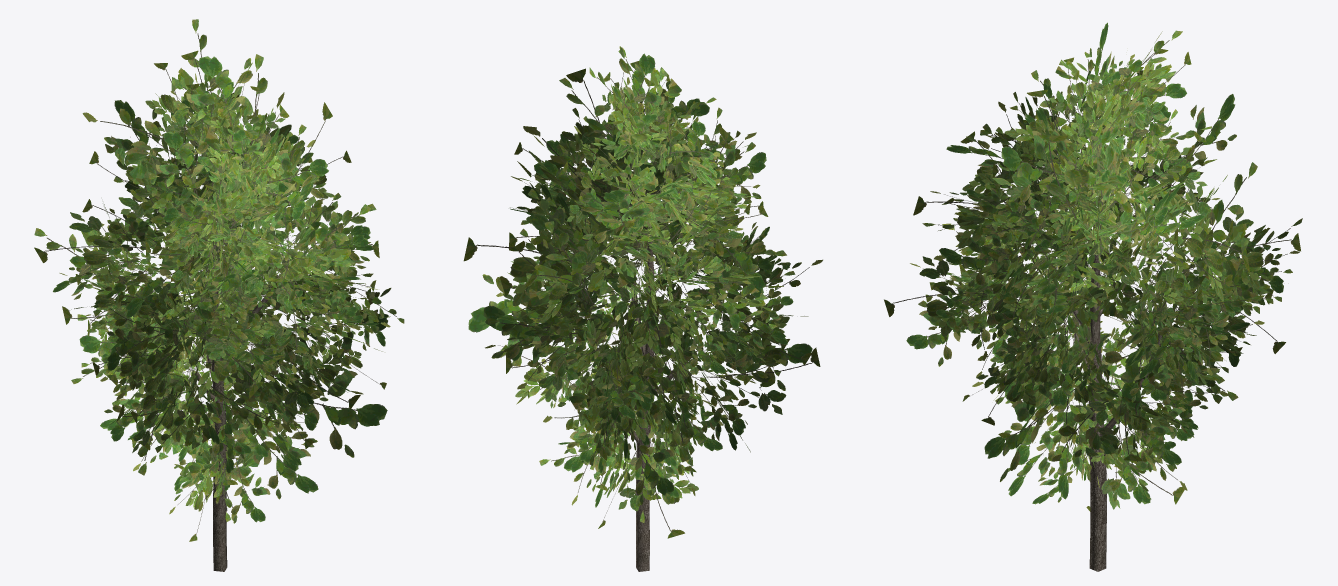
The model's file is tree_linden_v1_l1.glb.
3 renders of one model, left to right at view 1: azimuth 30°, elevation 25°; view 2: azimuth 150°, elevation 25°; view 3: azimuth 270°, elevation 25°, orthographic. The views are drawn at different scales.
Parts seen in each view (by area): view 1: tree_linden_v1_l1; view 2: tree_linden_v1_l1; view 3: tree_linden_v1_l1.
Boxes of the visible parts, box(x1,y1,x2,y2) form: tree_linden_v1_l1: box(34, 19, 404, 571); tree_linden_v1_l1: box(463, 46, 822, 571); tree_linden_v1_l1: box(884, 22, 1302, 571).
Size of the model in its own units: 8.54 by 12.84 by 9.24.
Materials: 2 (2 with a texture image).
